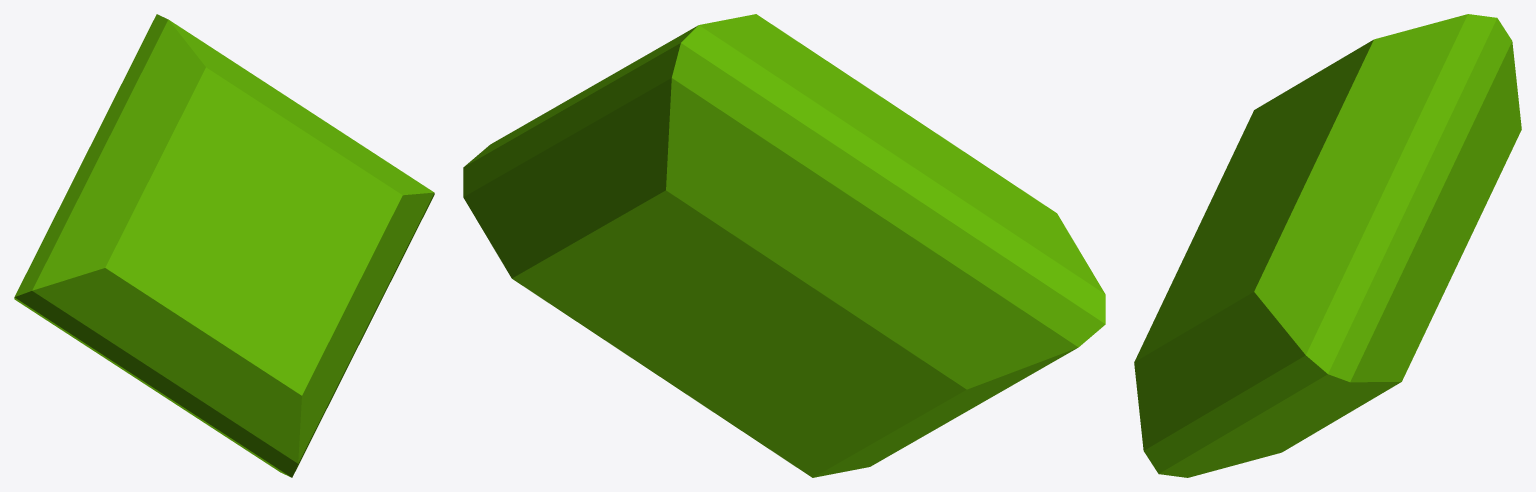
3 renders of one model, left to right at view 1: azimuth 30°, elevation 25°; view 2: azimuth 150°, elevation 25°; view 3: azimuth 270°, elevation 25°, orthographic. The views are drawn at different scales.
Parts seen in each view (by area): view 1: Capsule; view 2: Capsule; view 3: Capsule.
Boxes of the visible parts, box(x1,y1,x2,y2) form: Capsule: box(14, 14, 434, 477); Capsule: box(463, 14, 1105, 477); Capsule: box(1134, 14, 1521, 477).
Bounding box in the file's own units: 126 × 106 × 80.53.
